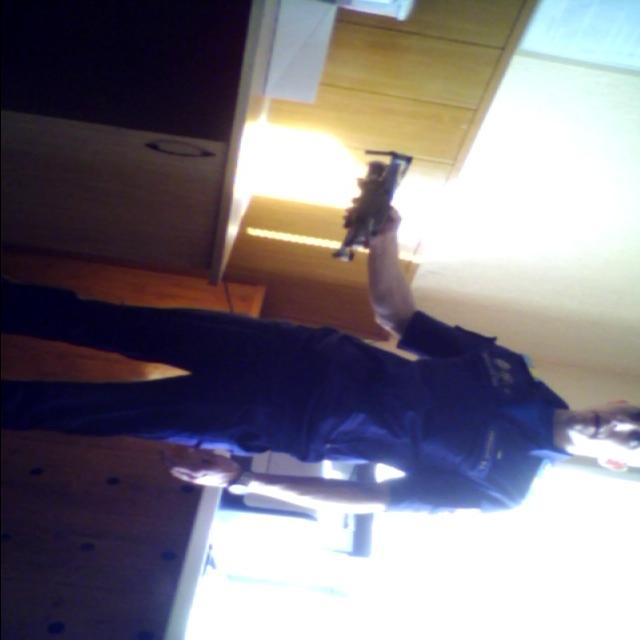drone: (319, 137, 429, 280)
